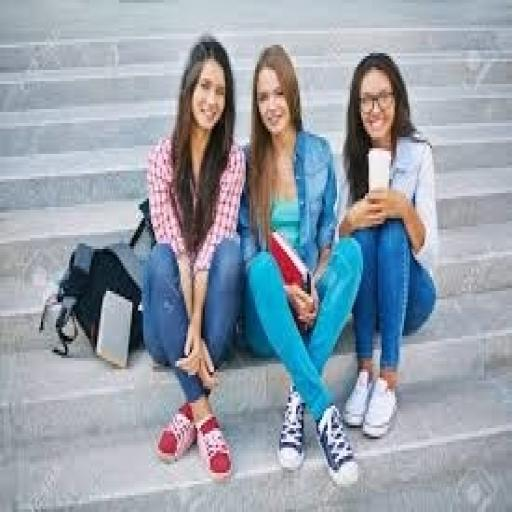sitting: (138, 31, 439, 487), (240, 42, 365, 487), (140, 34, 248, 481), (335, 48, 440, 439)
